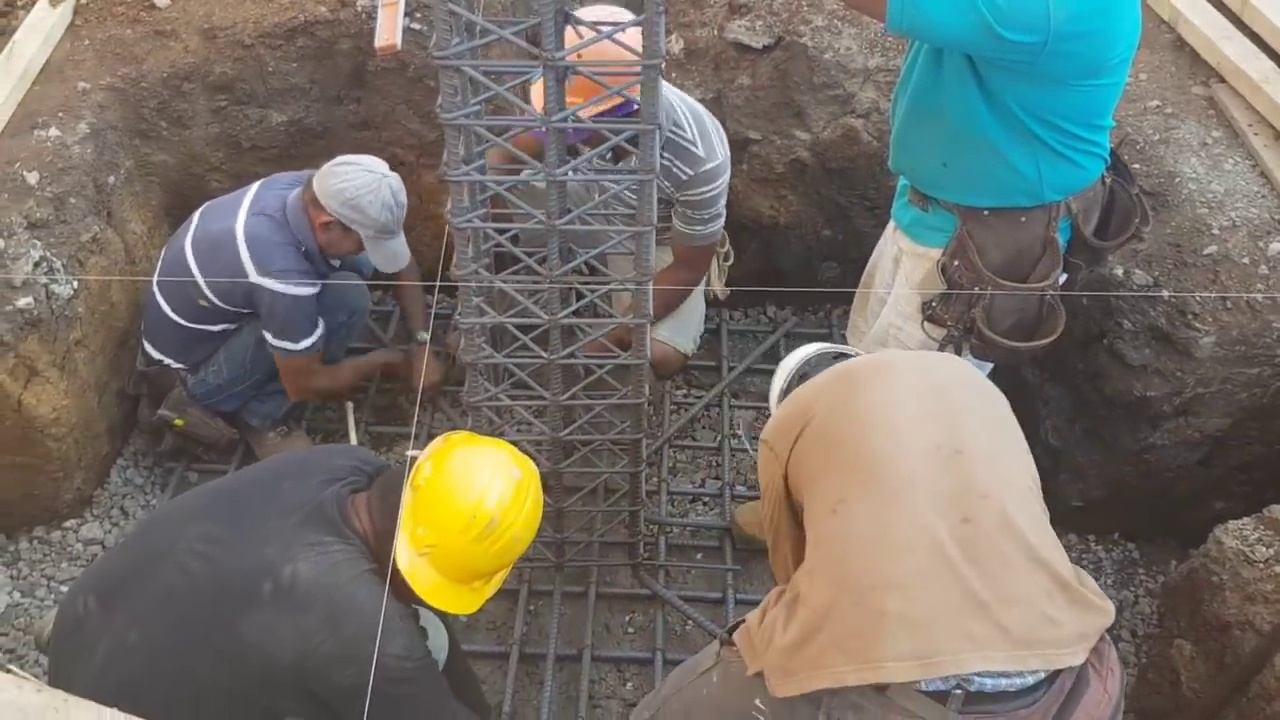helmet: (391, 429, 546, 624), (524, 5, 667, 122), (770, 350, 862, 407)
helmet-off: (297, 158, 417, 274)
helmet-on: (340, 423, 544, 632), (522, 0, 665, 159), (766, 342, 878, 418)
person: (626, 344, 1124, 720), (40, 424, 543, 720), (841, 0, 1151, 366), (475, 0, 734, 372), (130, 152, 436, 443)
